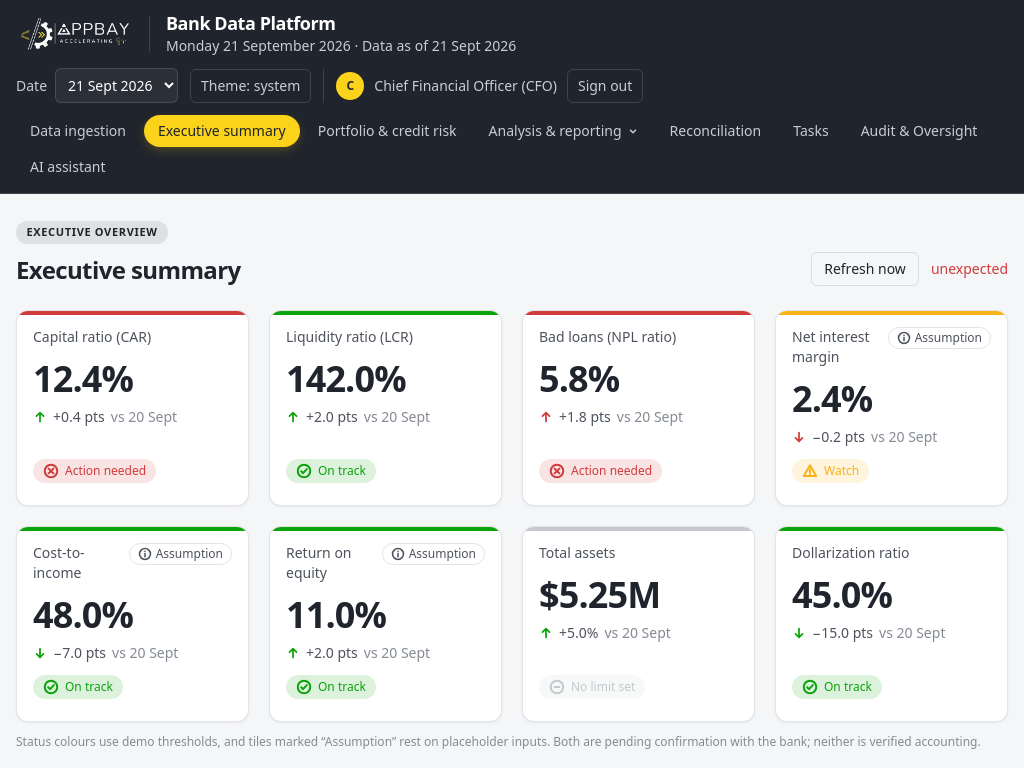
Test case: executive summary › marks exactly the three assumption-based tiles, and names the assumption on hover
Check: the list named "Key indicators" is shown, box [16,310,1008,722]
Hover over the 1st button "Assumption" at (939, 338), box [888,327,991,349]
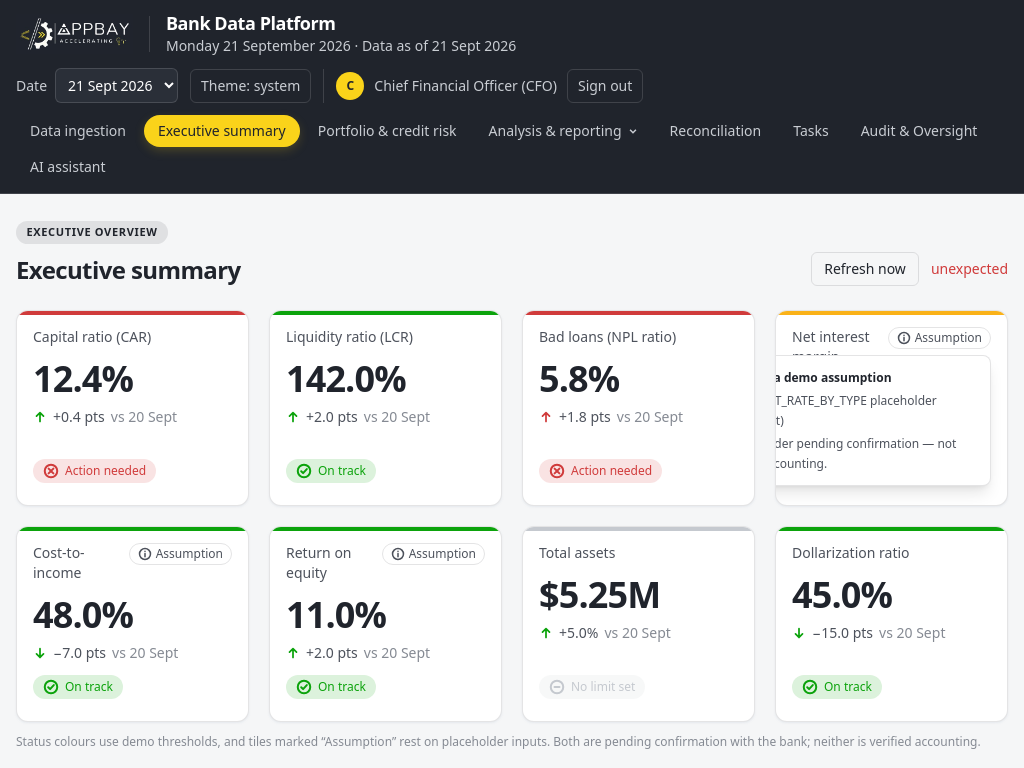
Check: the tooltip shows "DEPOSIT_RATE_BY_TYPE placeholder (nim_pct)", box [775,392,937,429]
Move the pointer off the 1st button "Assumption", box [888,327,991,349]
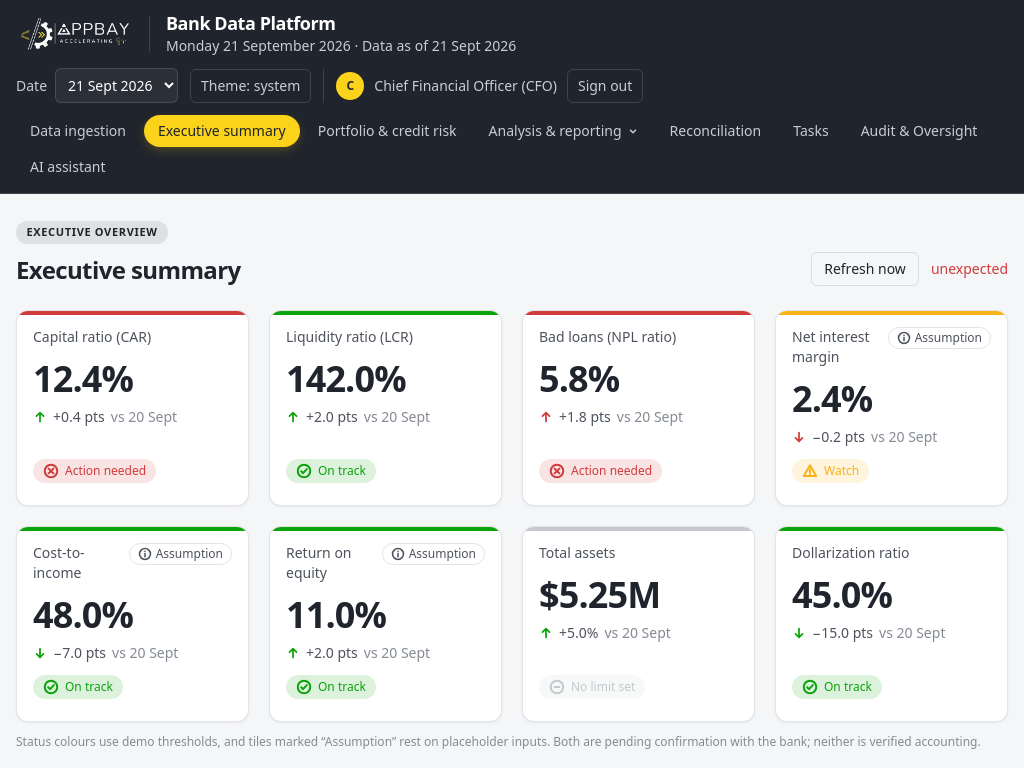
Hover over the button "Assumption" next to "Return on equity" at (433, 554), box [382,543,485,565]
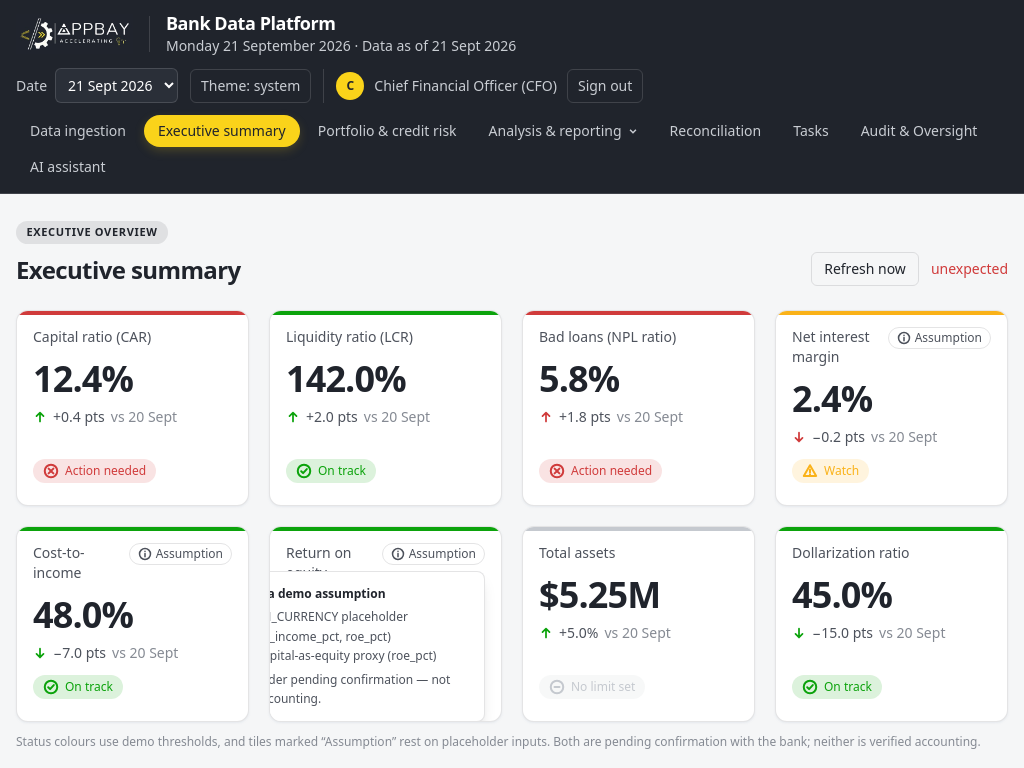
Check: the tooltip shows "REGION_CURRENCY placeholder", box [269,608,408,645]
Check: the tooltip shows "tier1_capital-as-equity proxy", box [269,647,436,664]
Check: the tooltip shows "not verified accounting", box [269,671,450,707]
